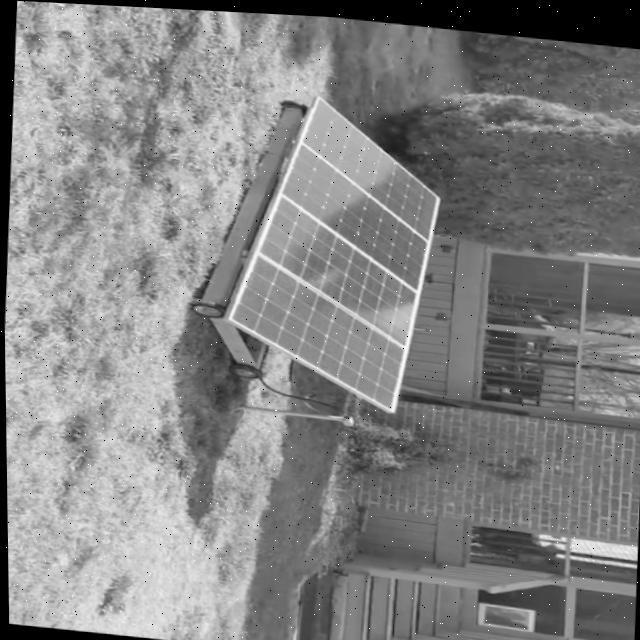Normal Solar Panel: (219, 84, 448, 414)
